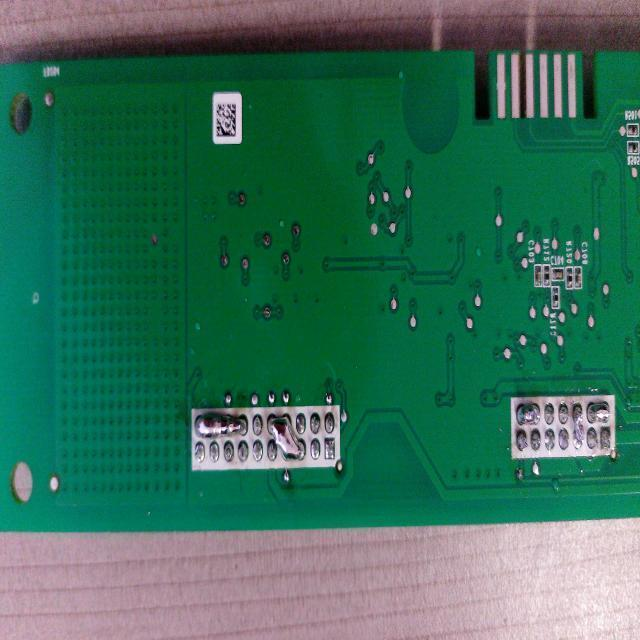Soldering shorted: (266, 413, 306, 464), (192, 406, 250, 440), (571, 403, 585, 452), (514, 402, 542, 426), (587, 402, 610, 419)
